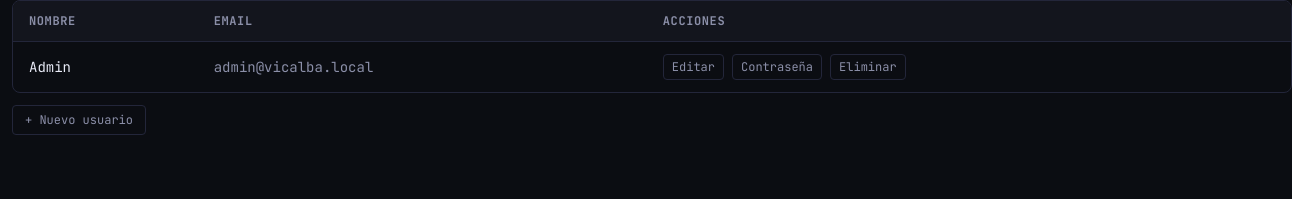
Test case: GestionUsuarios — cambiar contraseña › muestra formulario de contraseña
Step 1. Click the button with aria-label "cambiar contraseña de admin" → (777, 67), box [732,54,822,80]
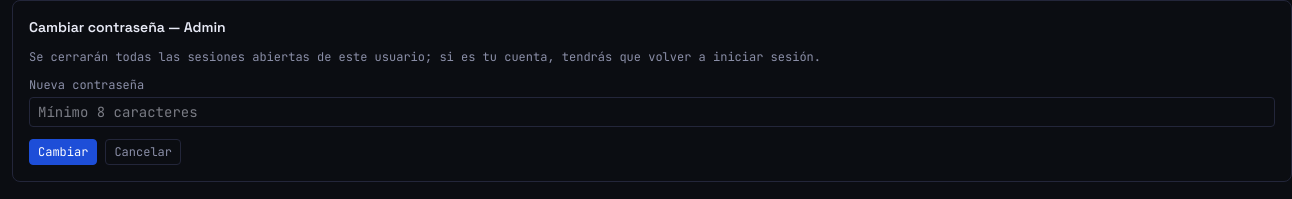
Now the password field labelled "Nueva contraseña" is shown, box [29,97,1275,127]
